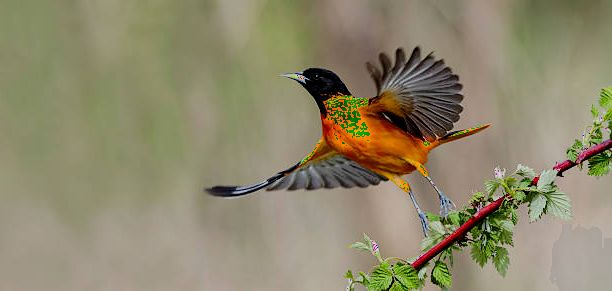Bird: (201, 39, 491, 238)
